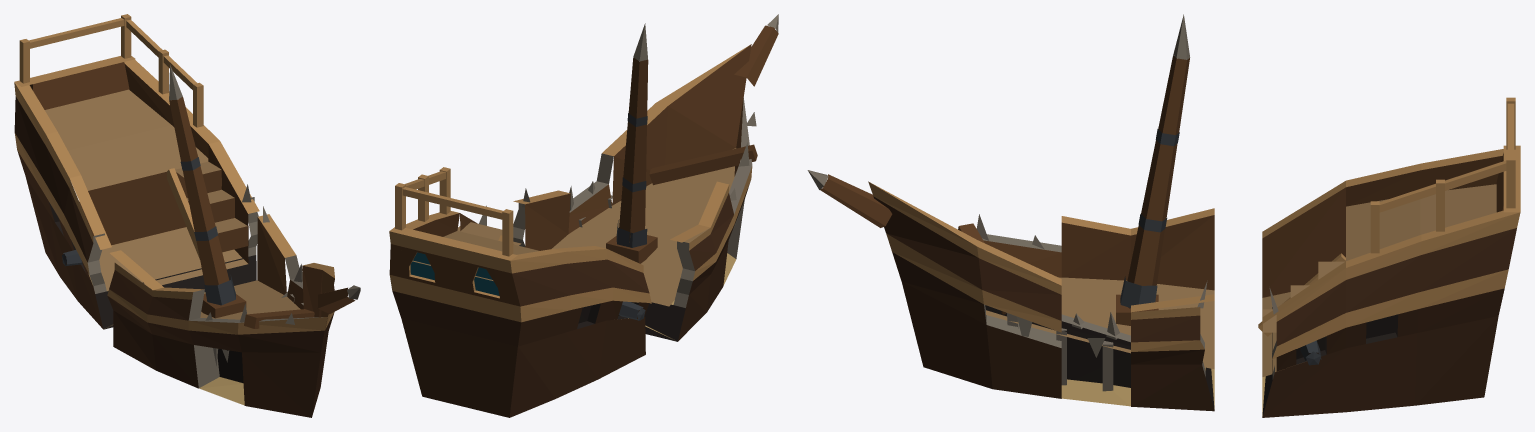
Rendered from wrecked-hull-section-ca6755.glb.
3 renders of one model, left to right at view 1: azimuth 30°, elevation 25°; view 2: azimuth 150°, elevation 25°; view 3: azimuth 270°, elevation 25°, orthographic. The views are drawn at different scales.
Parts seen in each view (by area): view 1: wrecked-hull-section, mast-stub; view 2: wrecked-hull-section, mast-stub; view 3: wrecked-hull-section, mast-stub.
Boxes of the visible parts, <box> form: wrecked-hull-section: <box>14,14,360,417</box>; mast-stub: <box>169,64,229,285</box>; wrecked-hull-section: <box>389,14,778,417</box>; mast-stub: <box>619,23,648,246</box>; wrecked-hull-section: <box>807,97,1520,417</box>; mast-stub: <box>1127,14,1190,308</box>.
Size of the model in its own units: 2.48 by 3.47 by 6.7.
